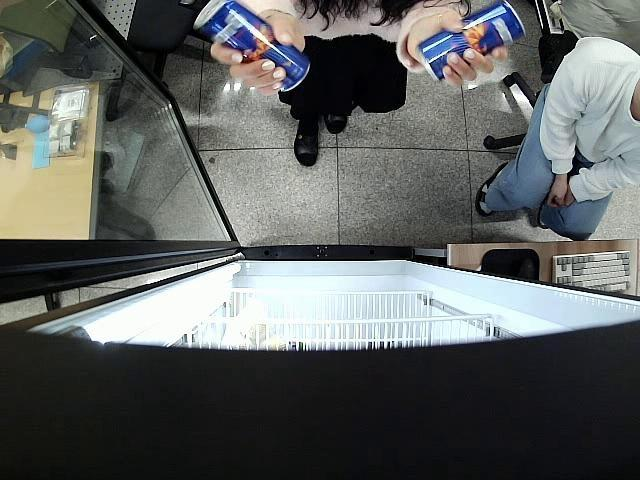16_hot6: (192, 0, 313, 93), (417, 0, 528, 83)
